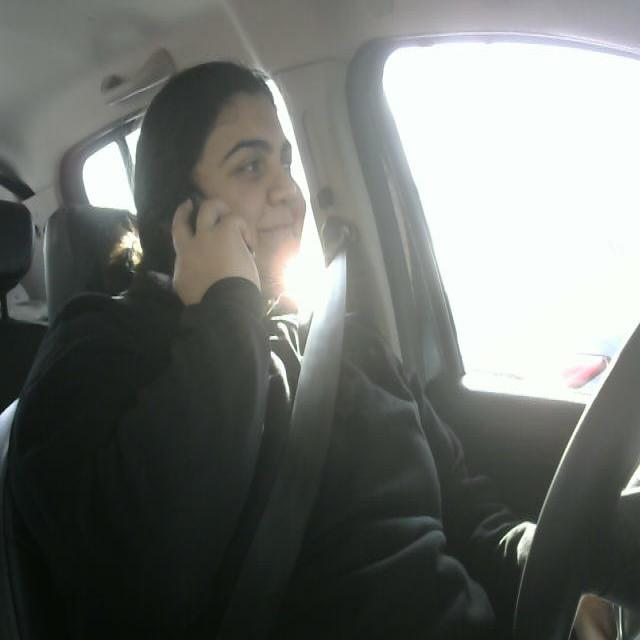mobile use: (166, 192, 262, 298)
